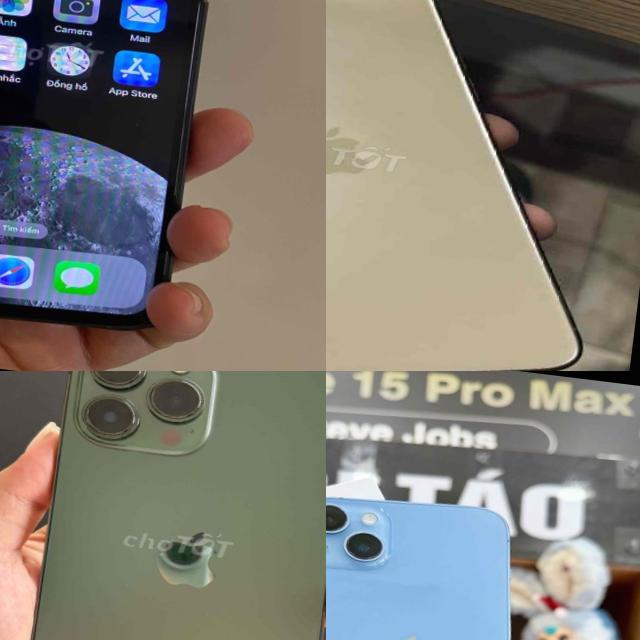gen_11: (326, 0, 635, 371)
gen_12_13: (10, 371, 326, 640)
gen_14: (326, 480, 559, 640)
gen_x_xs: (0, 0, 235, 343)
